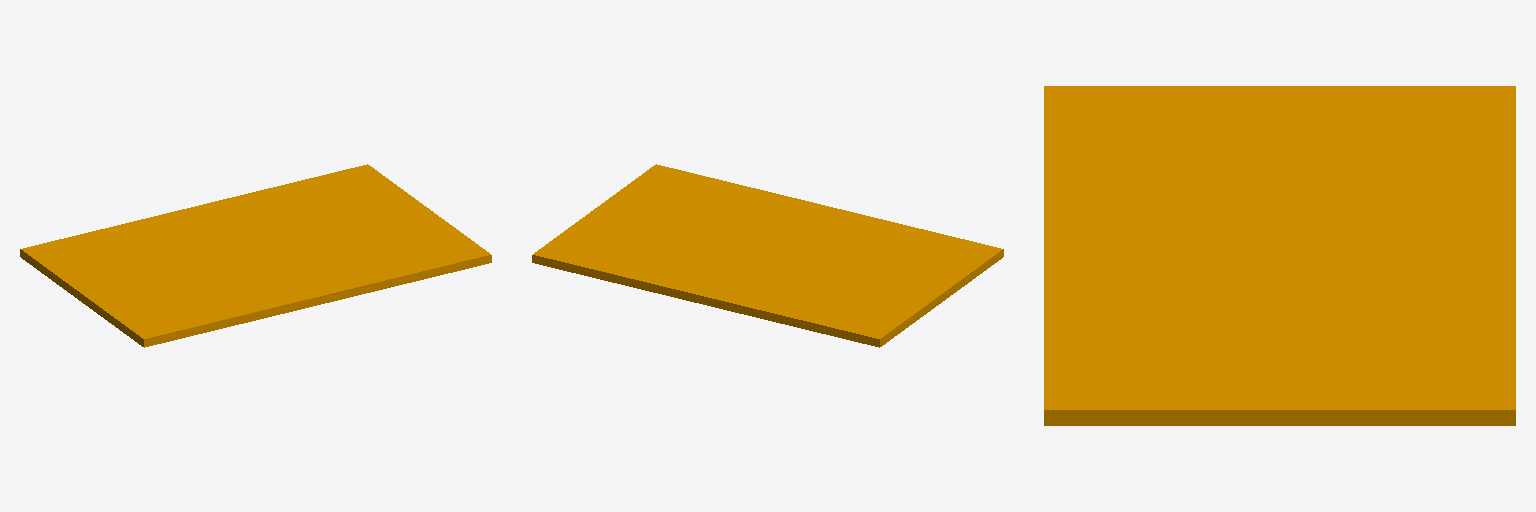
robot.urdf — table:
<?xml version="1.0"?>
<robot name="table">
    <link name="table">
        <visual>
            <geometry>
                <mesh filename="../mesh/table.obj" scale="1 1 1"/>
            </geometry>
        </visual>
        <collision>
            <geometry>
                <mesh filename="../mesh/table.obj" scale="1 1 1"/>
            </geometry>
        </collision>
        <!-- <inertial>
            <mass value="1."/>
            <inertia ixx="0.0001" ixy="0.0" ixz="0.0" iyy="0.0001" iyz="0.0" izz="0.0001"/>
        </inertial> -->
    </link>
</robot>

--- What the picture shows (computed from the rendered views, not written in the file) ---
Views: 3 orthographic renders of the robot side by side, from view 1: azimuth 30°, elevation 25°; view 2: azimuth 150°, elevation 25°; view 3: azimuth 270°, elevation 25°.
Robot: table — 1 links, 0 joints (none); root link table; default pose: every joint at zero.
Links seen in each view (by area): view 1: table; view 2: table; view 3: table.
Link boxes in pixels (left/top/right/bottom): table: left=20, top=164, right=491, bottom=347; table: left=532, top=164, right=1003, bottom=347; table: left=1044, top=86, right=1515, bottom=425.
Bounding box of the posed robot: 1.3 × 0.8 × 0.03 m (x, y, z).
1 mesh visuals loaded from 1 distinct referenced files (1 OBJ).